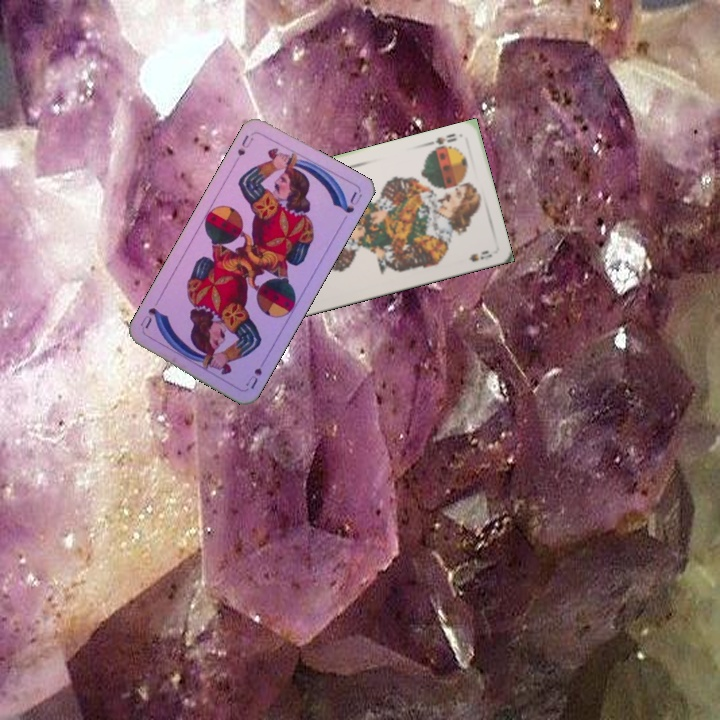SO: (426, 129, 459, 153)
SU: (242, 354, 269, 392), (233, 131, 256, 159)
